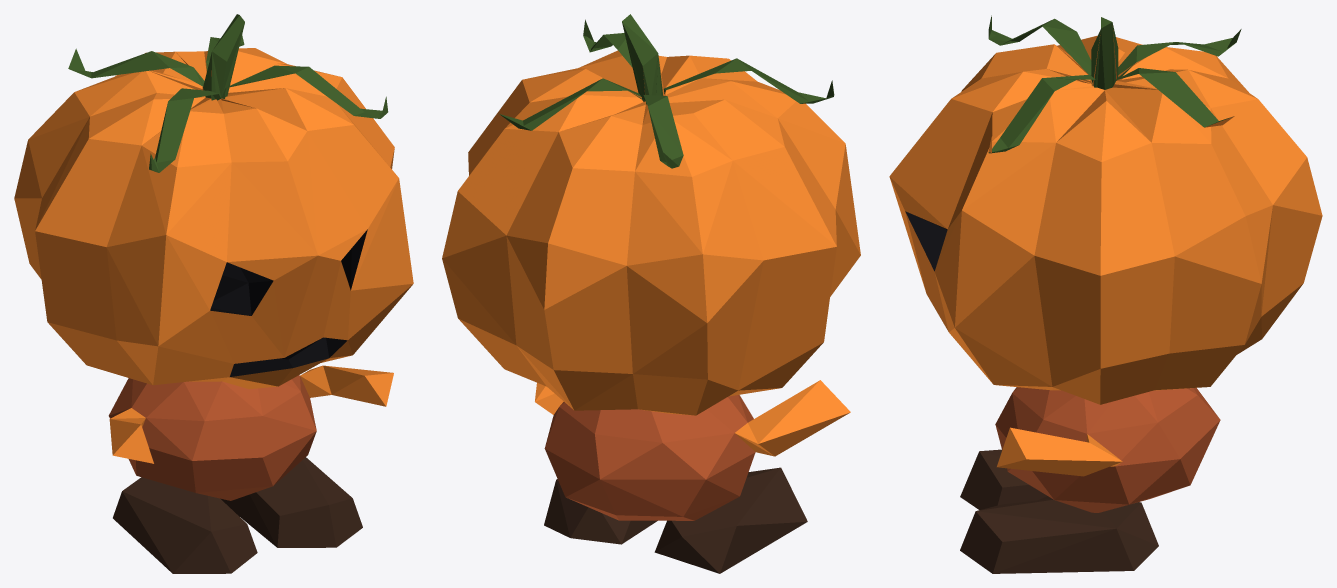
The model's file is 1gs-khliebnikova-mariia-carabassa.glb.
3 renders of one model, left to right at view 1: azimuth 30°, elevation 25°; view 2: azimuth 150°, elevation 25°; view 3: azimuth 270°, elevation 25°, orthographic. The views are drawn at different scales.
Parts seen in each view (by area): view 1: Sphere; view 2: Sphere; view 3: Sphere.
Part boxes in pixels (bbox=[...]): Sphere: bbox=[14, 14, 413, 573]; Sphere: bbox=[442, 14, 860, 573]; Sphere: bbox=[889, 15, 1322, 573].
Bounding box in the file's own units: 1.09 × 1.44 × 1.09.
Materials: 1 (1 with a texture image).
